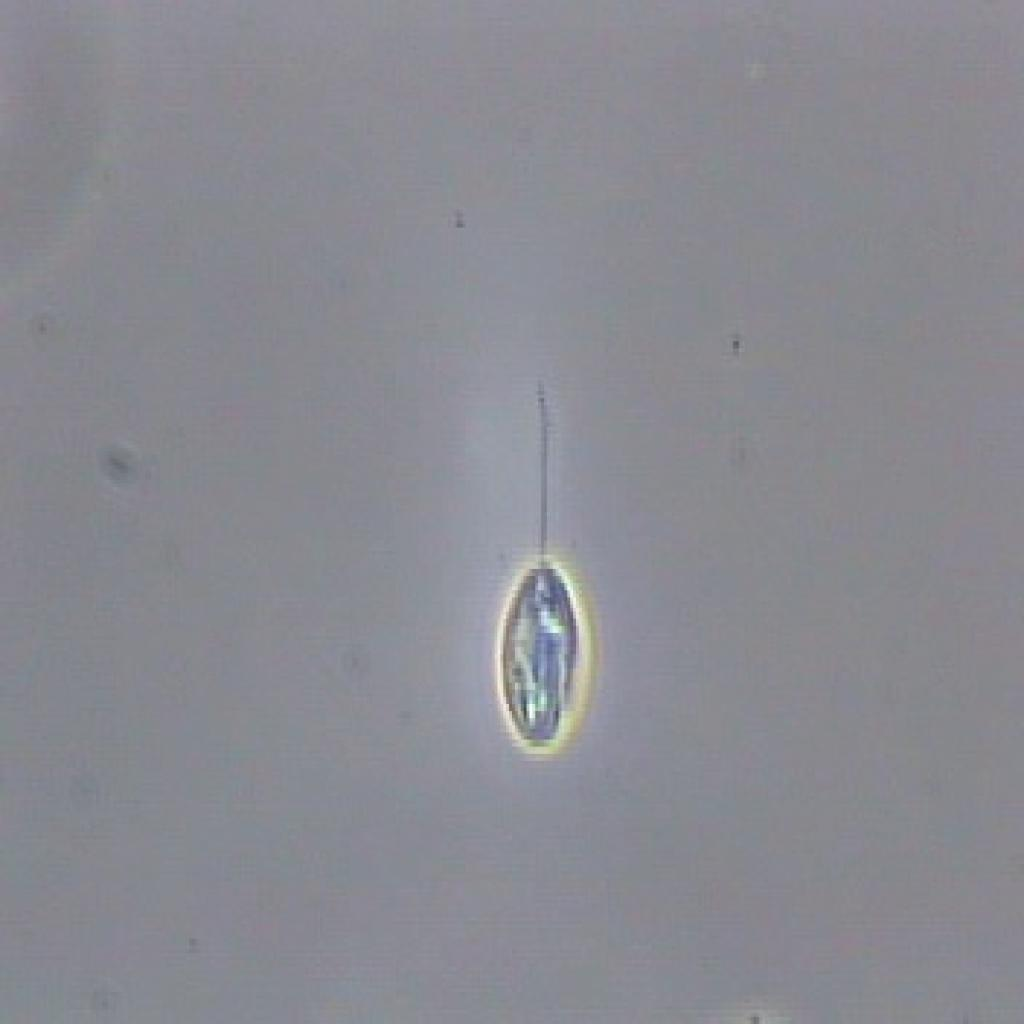Flagellates: (460, 356, 611, 778)
